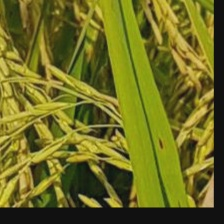Bacterial_Leaf_Blight: (155, 134, 168, 151)
